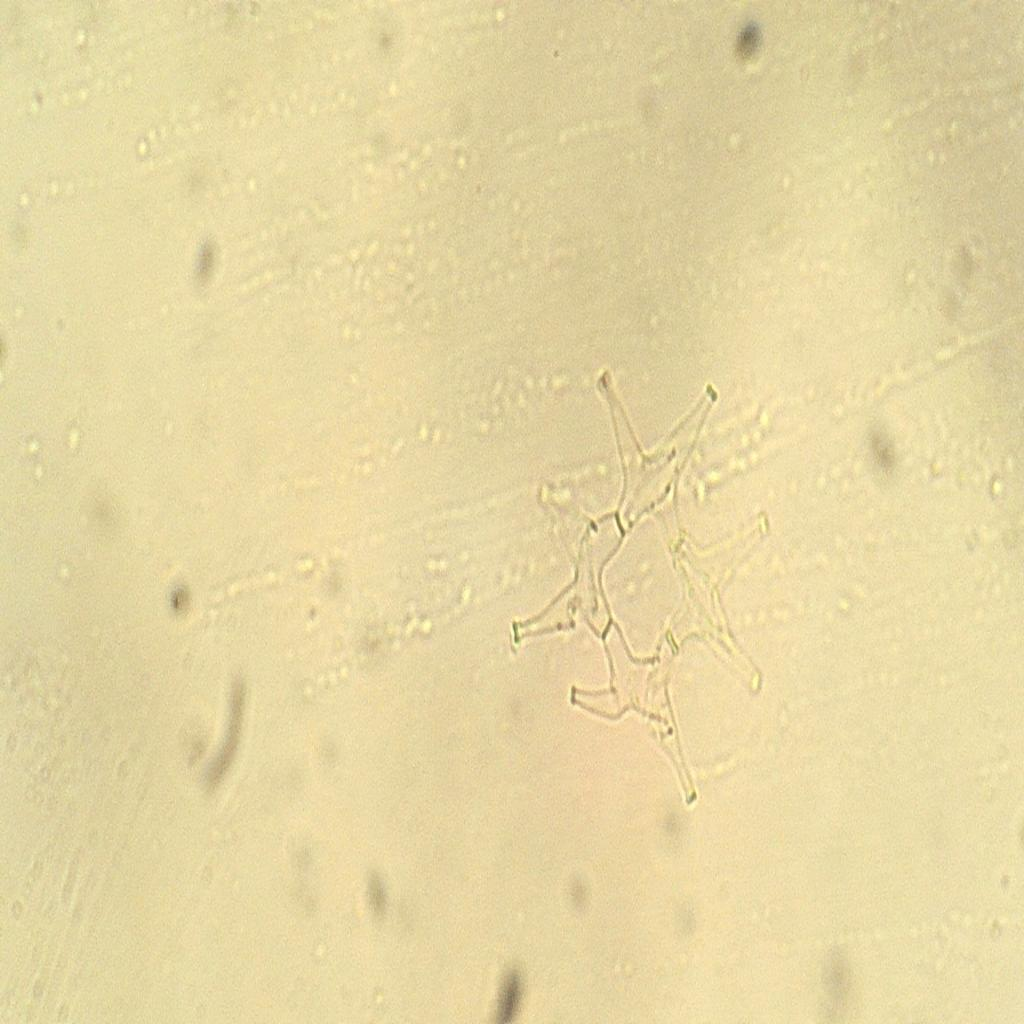Pediastrum_75TH: (497, 336, 791, 819)
